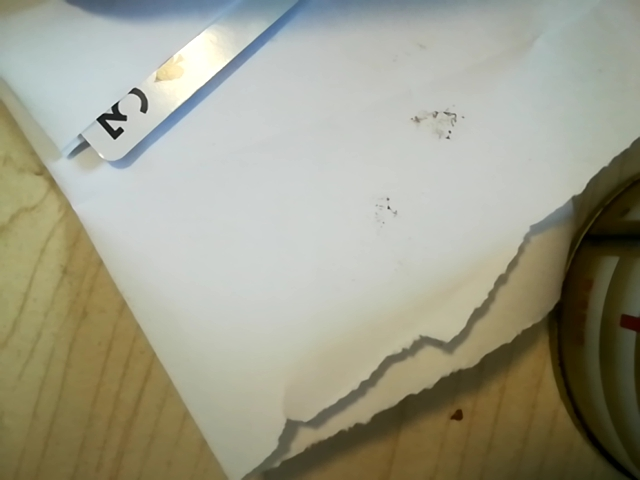ht 3: (66, 76, 166, 171)
